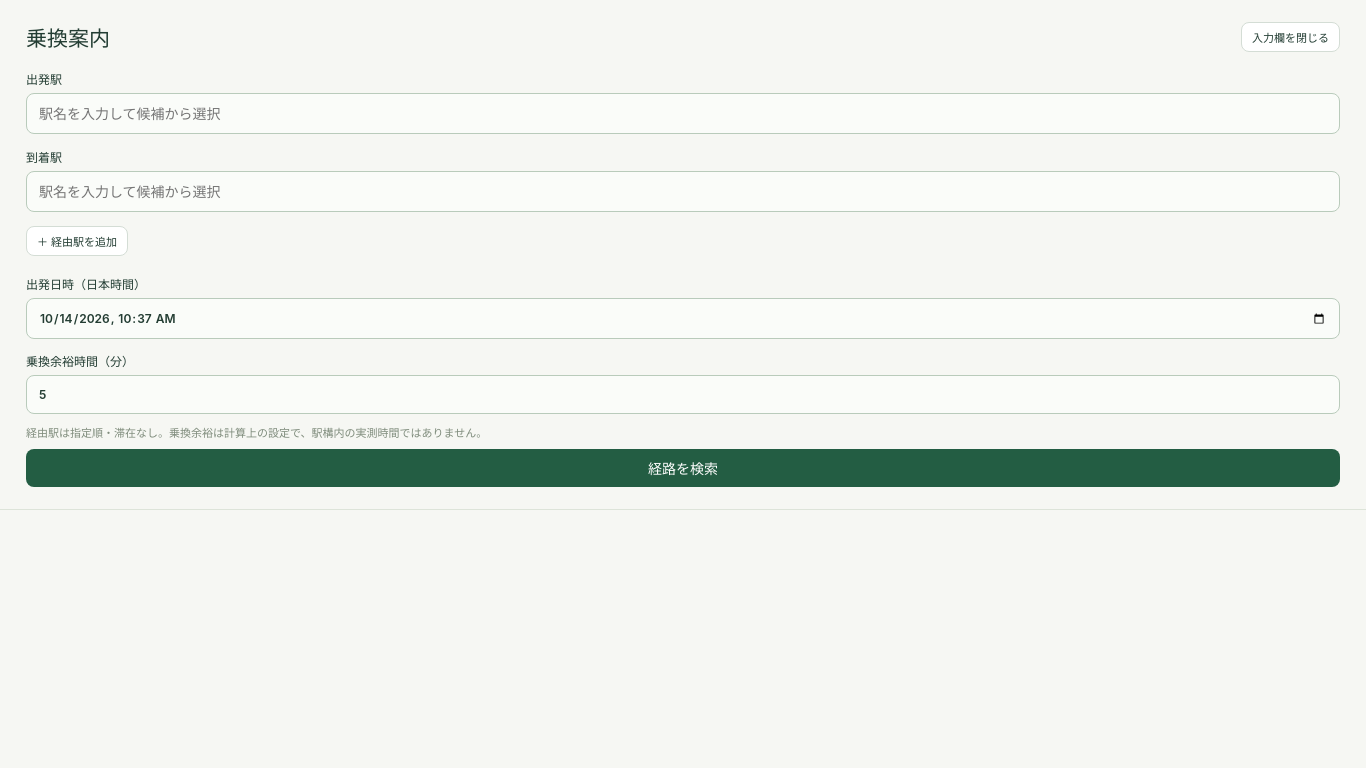
Test: 同名駅の会社と地域を区別し、IME確定中に選択しない
This screenshot has width=1366, height=768.
In the dropdown labelled "出発駅": (683, 114) [26, 93, 1340, 134], type "始点"
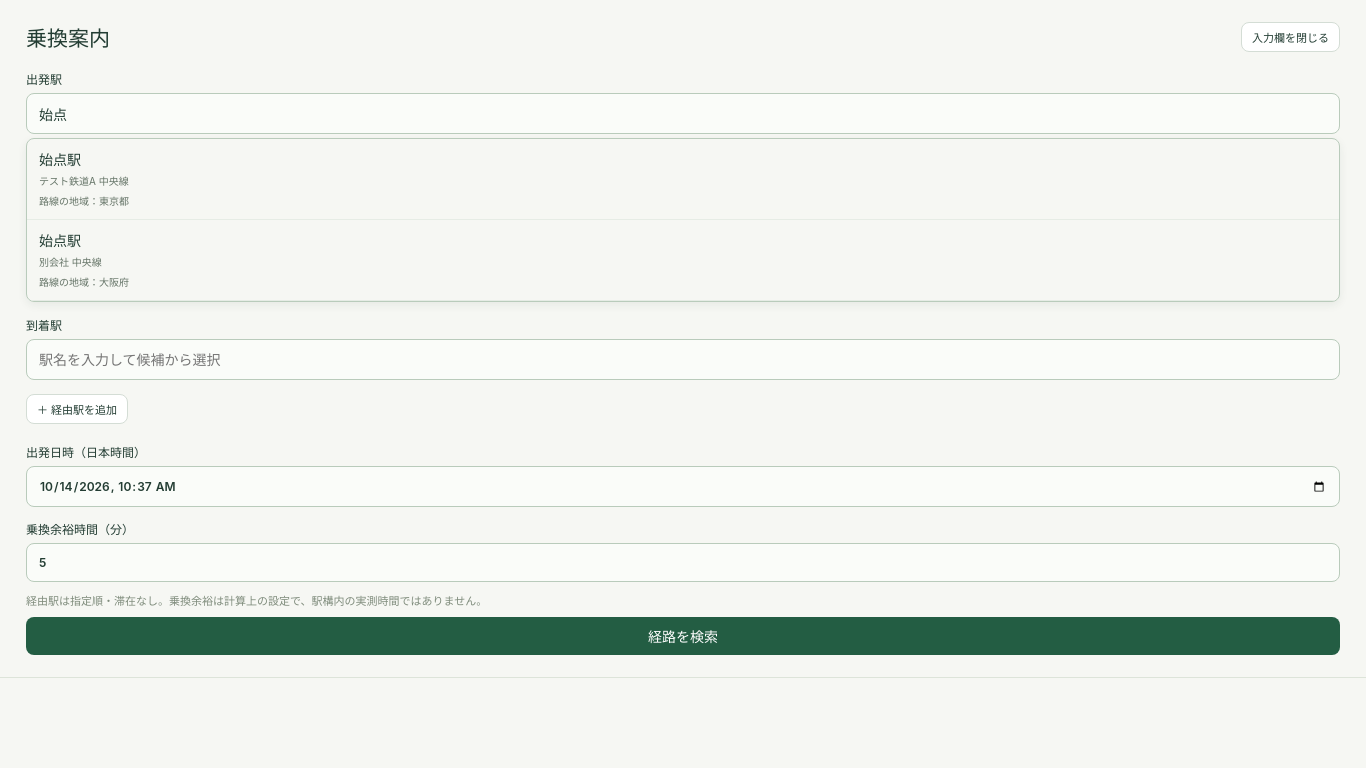
Result: the number of options is 2 at [27, 139, 1339, 220]; [27, 220, 1339, 301]
Result: the option "始点駅 テスト鉄道A 中央線 路線の地域：東京都" is shown at [27, 139, 1339, 220]
Result: the option "始点駅 別会社 中央線 路線の地域：大阪府" is shown at [27, 220, 1339, 301]
Press ArrowDown in the dropdown labelled "出発駅", box [26, 93, 1340, 134]
Press Enter in the dropdown labelled "出発駅", box [26, 93, 1340, 134]
Result: the number of options is 2
Click the option "始点駅 別会社 中央線 路線の地域：大阪府": (60, 240) [27, 220, 1339, 301]
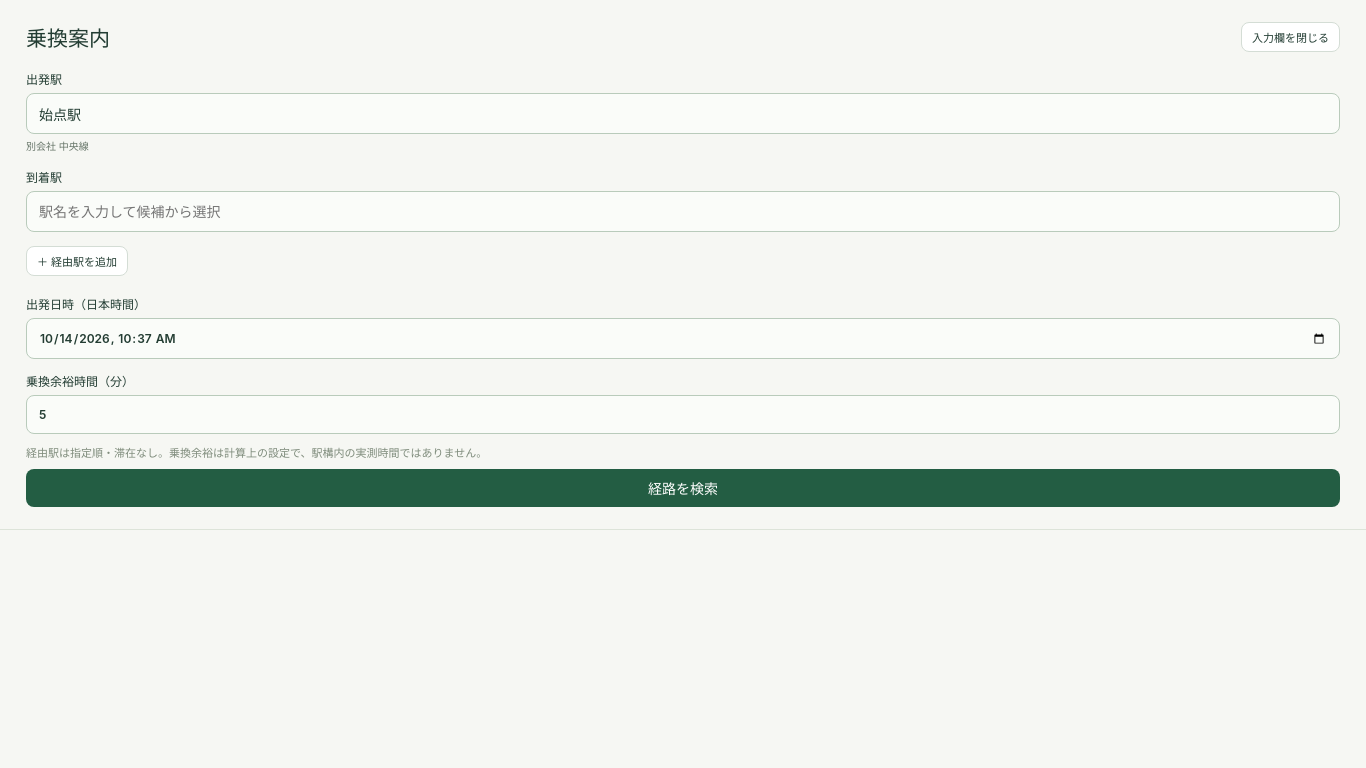
Result: the text "別会社 中央線" is shown at [26, 140, 89, 152]
Result: the list is gone
